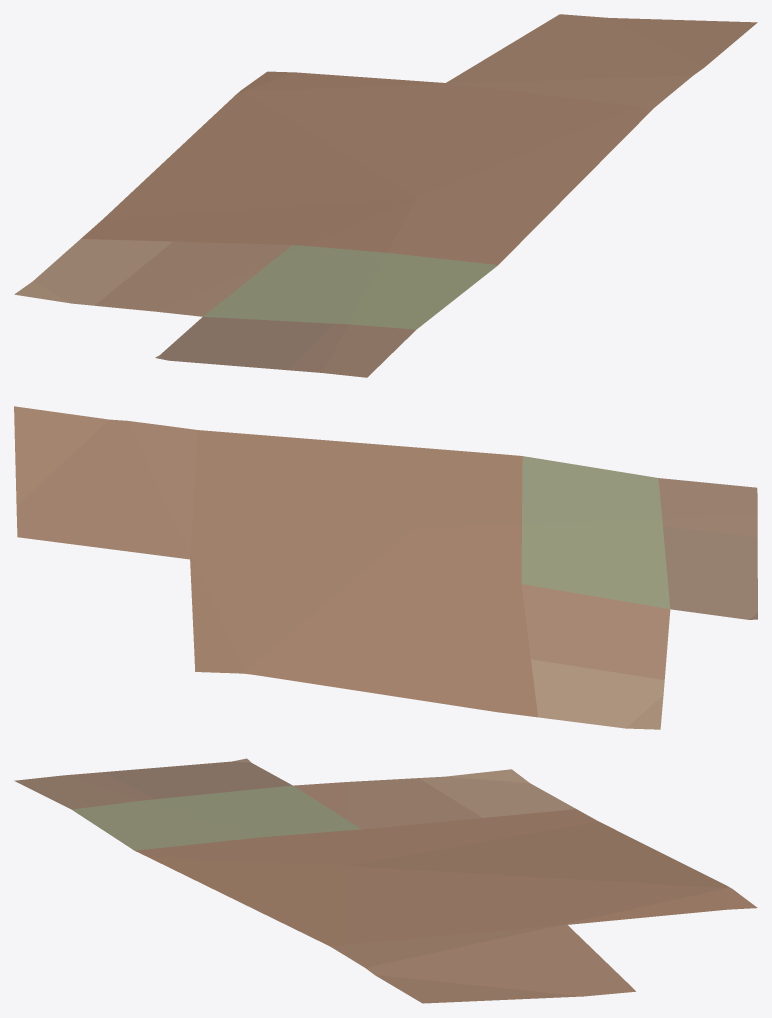
File: farm_-8_6_soil.glb
The picture shows the model from 3 angles, top to bottom: view 1: azimuth 30°, elevation 25°; view 2: azimuth 150°, elevation 25°; view 3: azimuth 270°, elevation 25°; orthographic projection. The views are drawn at different scales.
Visible parts, largest first — view 1: geometry_0; view 2: geometry_0; view 3: geometry_0.
Boxes of the visible parts, x1,y1,x2,y2 form: geometry_0: (14, 14, 757, 377); geometry_0: (14, 406, 757, 729); geometry_0: (14, 758, 757, 1003).
Bounding box in the file's own units: 188 × 33.19 × 156.
